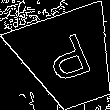P_S: (40, 30, 98, 90)
